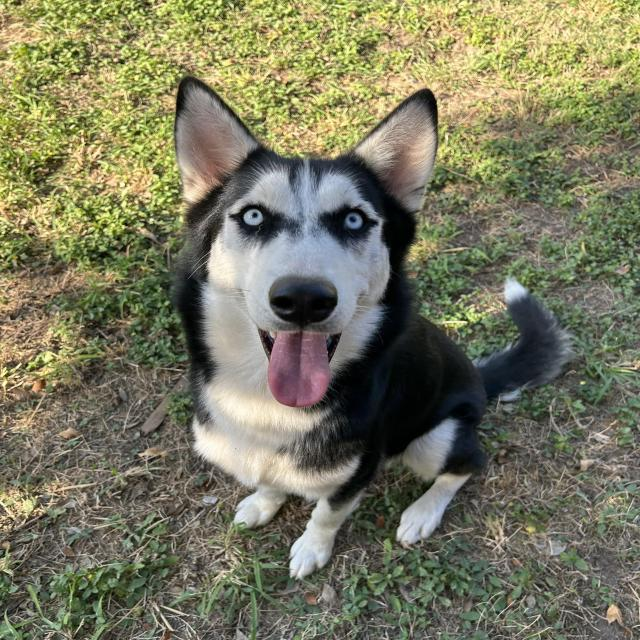siberian_husky_dog: (164, 65, 444, 418)
